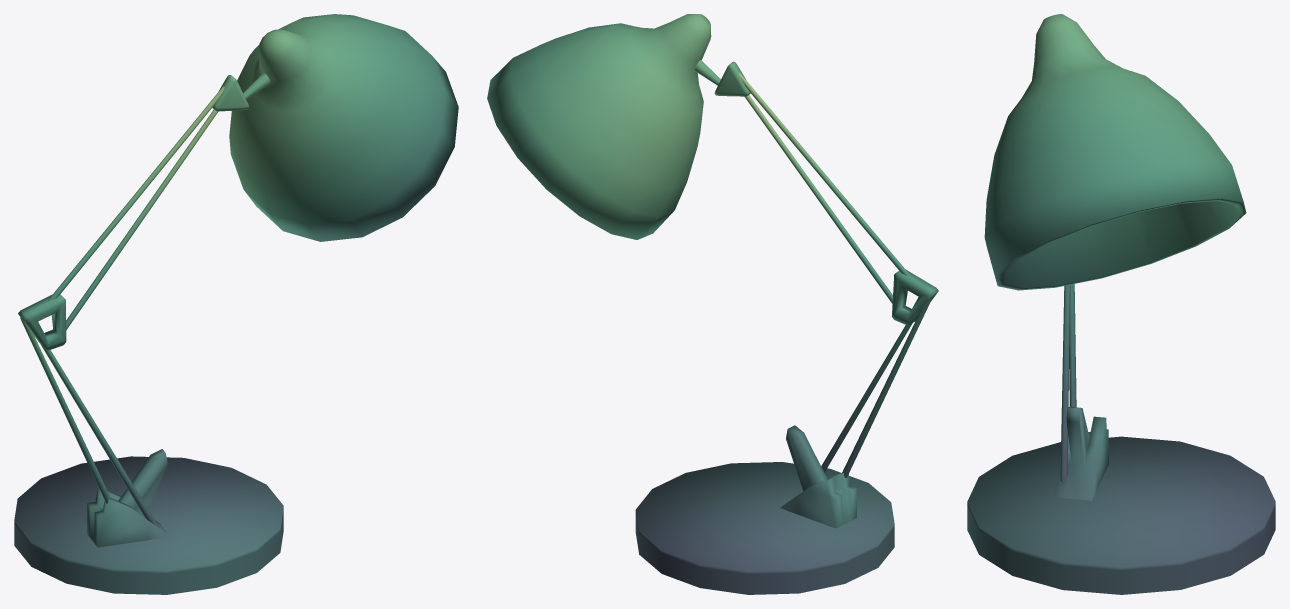
Rendered from mesh_lamp.fbx.
The picture shows the model from 3 angles, left to right: view 1: azimuth 30°, elevation 25°; view 2: azimuth 150°, elevation 25°; view 3: azimuth 270°, elevation 25°; orthographic projection. The views are drawn at different scales.
Parts seen in each view (by area): view 1: Lamp_LP; view 2: Lamp_LP; view 3: Lamp_LP.
Boxes of the visible parts, left/top/right/bottom form: Lamp_LP: left=14, top=14, right=458, bottom=594; Lamp_LP: left=487, top=14, right=938, bottom=594; Lamp_LP: left=967, top=14, right=1275, bottom=594.
Bounding box in the file's own units: 78.95 × 86.81 × 42.63.
